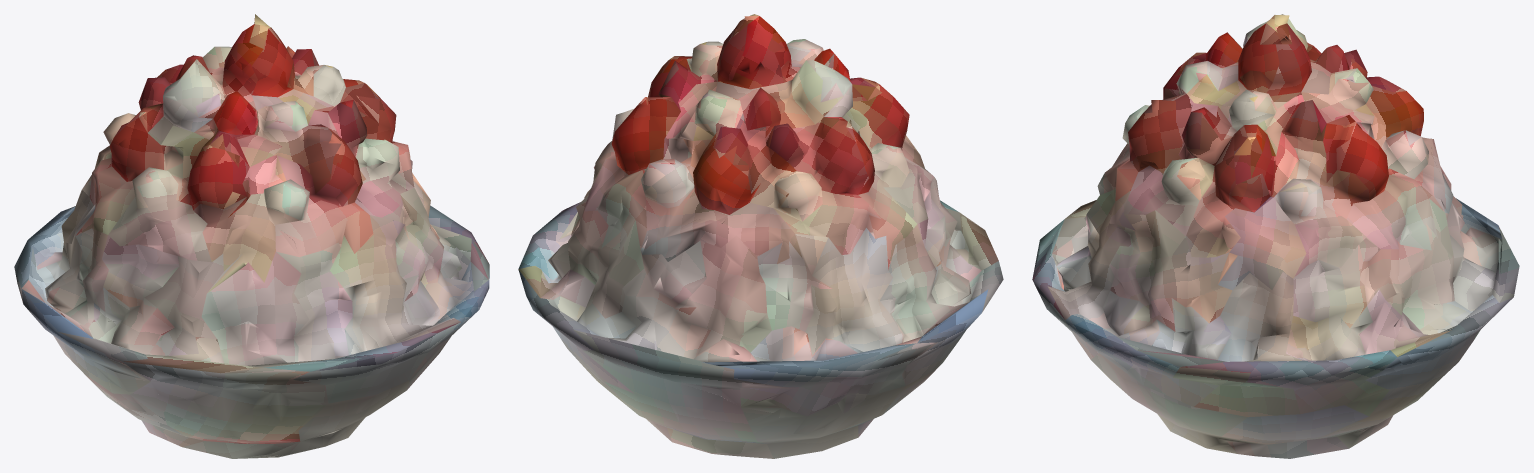
File: KR_사물_s1_food_tier3_strawberry_milk_bingsu.glb
3 renders of one model, left to right at view 1: azimuth 30°, elevation 25°; view 2: azimuth 150°, elevation 25°; view 3: azimuth 270°, elevation 25°, orthographic. The views are drawn at different scales.
Parts seen in each view (by area): view 1: tripo_node_204781e1-f7fc-41ef-9dd7-d0db0ada3020; view 2: tripo_node_204781e1-f7fc-41ef-9dd7-d0db0ada3020; view 3: tripo_node_204781e1-f7fc-41ef-9dd7-d0db0ada3020.
Part boxes in pixels (left/top/right/bottom): tripo_node_204781e1-f7fc-41ef-9dd7-d0db0ada3020: left=14, top=14, right=489, bottom=458; tripo_node_204781e1-f7fc-41ef-9dd7-d0db0ada3020: left=518, top=14, right=1003, bottom=458; tripo_node_204781e1-f7fc-41ef-9dd7-d0db0ada3020: left=1032, top=14, right=1519, bottom=458.
Size of the model in its own units: 1 by 0.904 by 1.
1 material, 1 textured.
